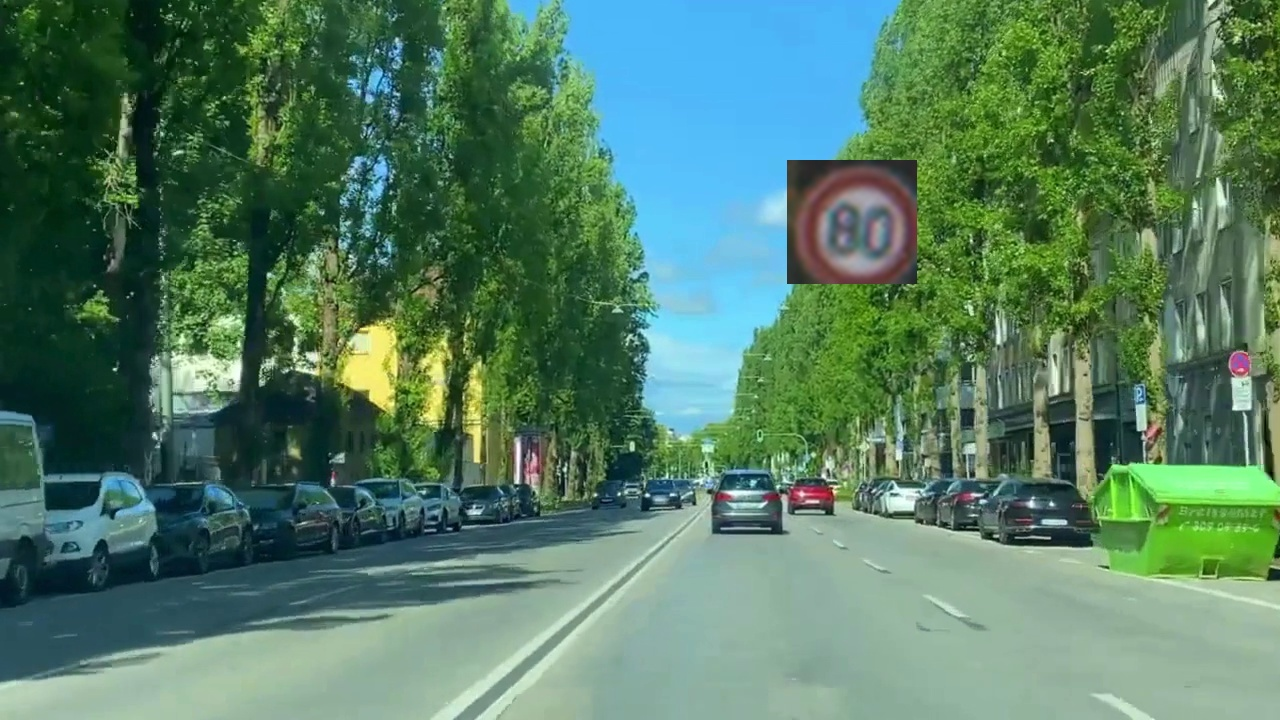Speed 80: (787, 160, 917, 284)
